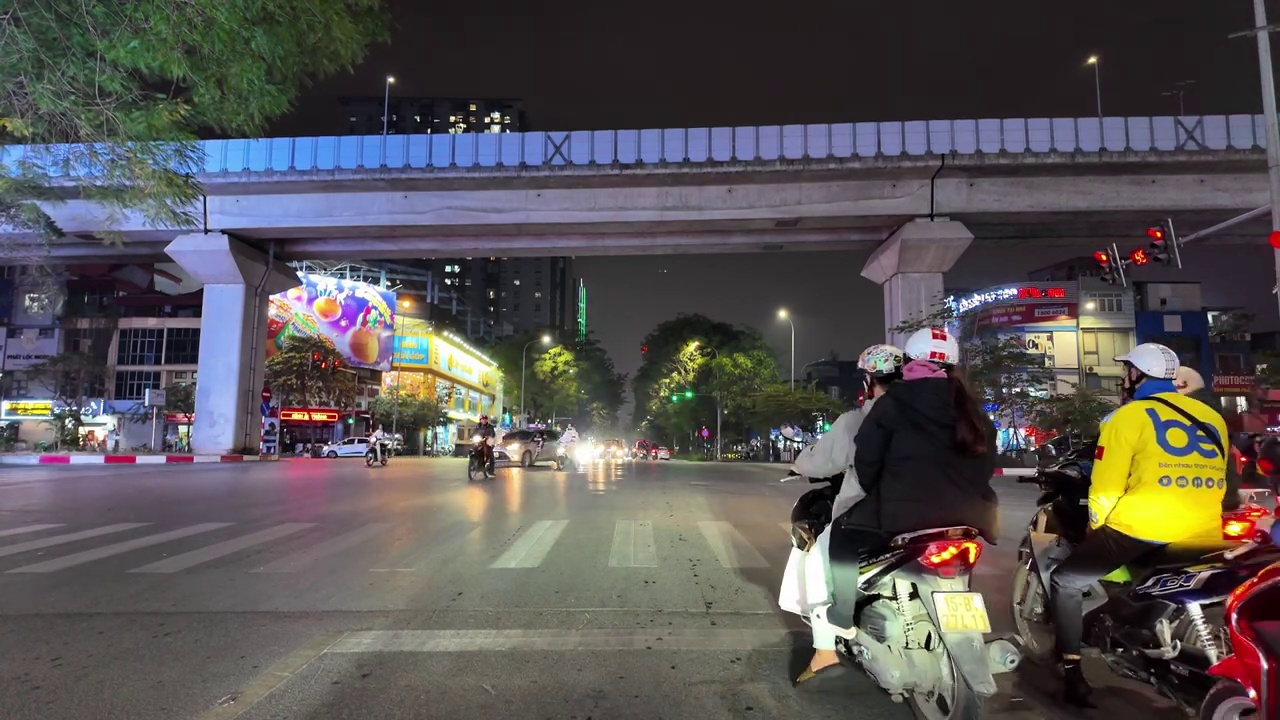acesa: (772, 305, 795, 327), (384, 72, 397, 90), (538, 332, 554, 346), (397, 296, 414, 309), (1086, 52, 1098, 68)
